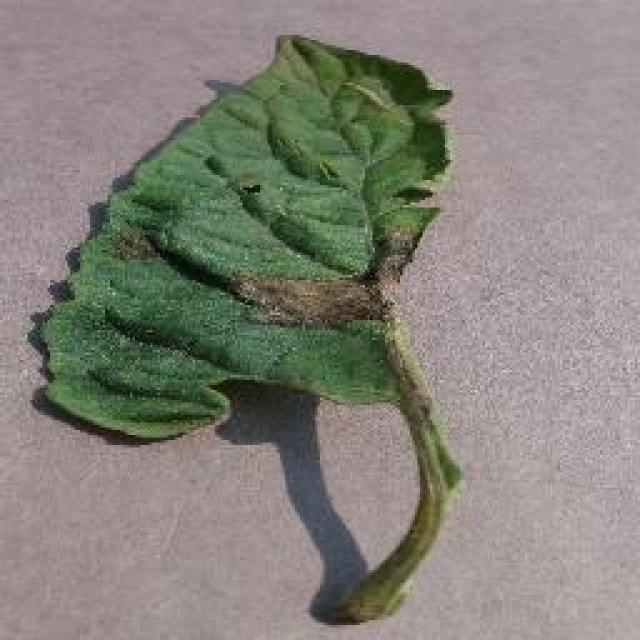Tomato___Late_blight: (40, 38, 465, 625)
